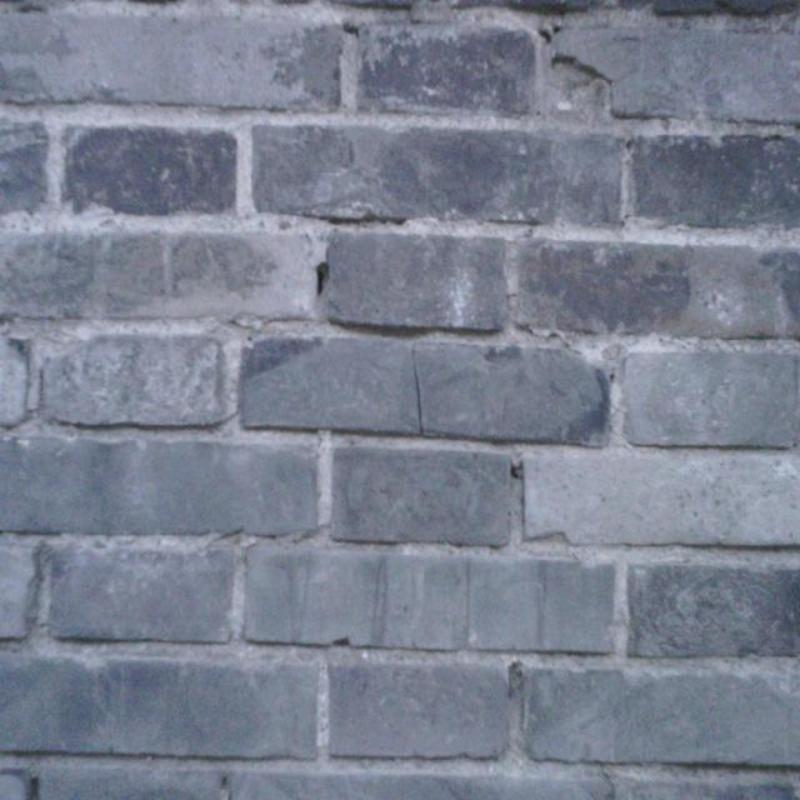pothole: (412, 350, 423, 435), (600, 761, 614, 799), (316, 270, 325, 295)
